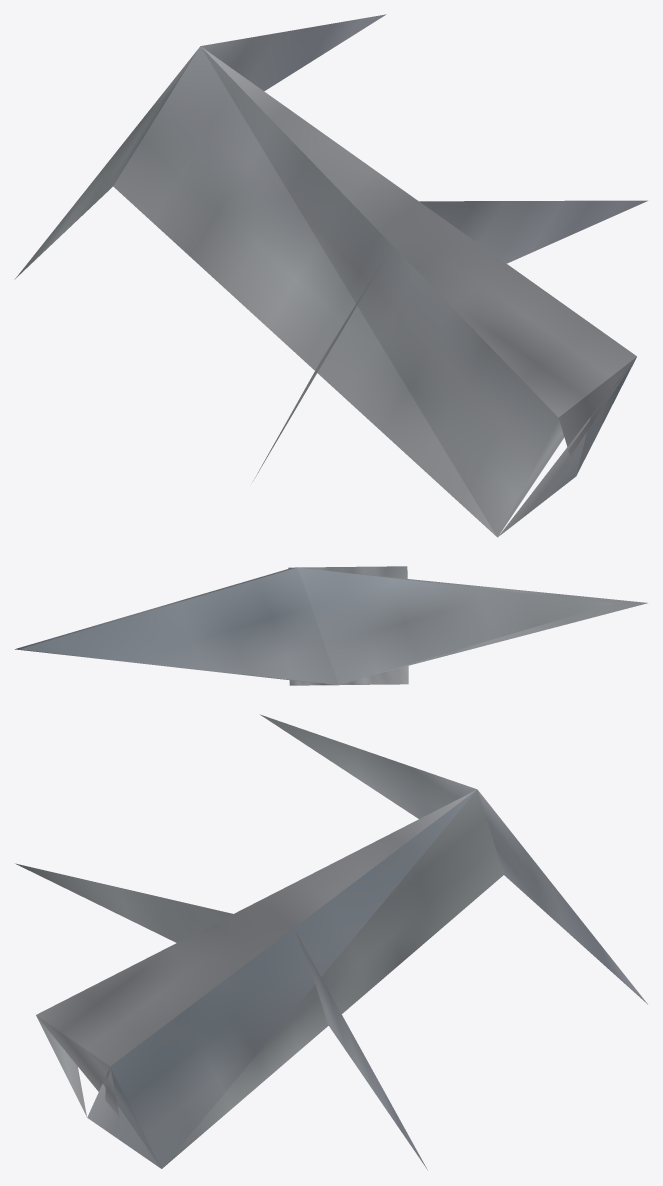
3 views of the same model, one above another, from view 1: azimuth 30°, elevation 25°; view 2: azimuth 150°, elevation 25°; view 3: azimuth 270°, elevation 25° (orthographic). The views are drawn at different scales.
Bounding box in the file's own units: 9.54 × 4.28 × 8.26.
1 material, 1 textured.
